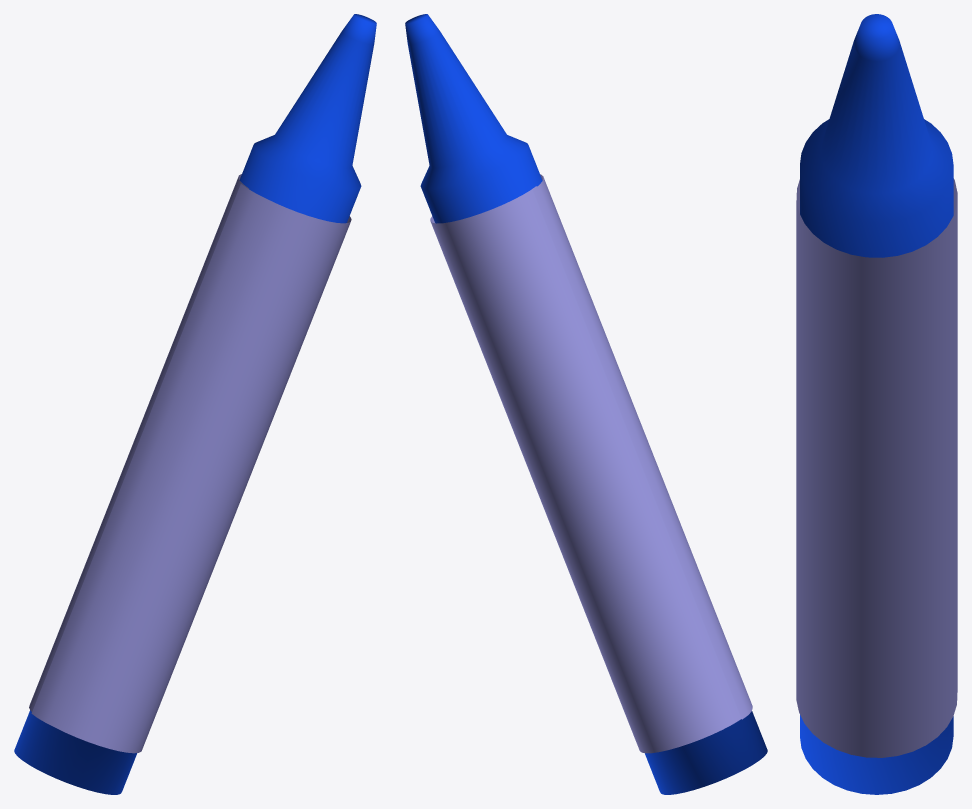
3 views of the same model, side by side, from view 1: azimuth 30°, elevation 25°; view 2: azimuth 150°, elevation 25°; view 3: azimuth 270°, elevation 25° (orthographic). The views are drawn at different scales.
Parts seen in each view (by area): view 1: Blue_Wrapper; view 2: Blue_Wrapper; view 3: Blue_Wrapper.
Part boxes in pixels (<box>): Blue_Wrapper: <box>14,14,376,794</box>; Blue_Wrapper: <box>405,14,767,794</box>; Blue_Wrapper: <box>796,14,957,794</box>.
Bounding box in the file's own units: 0.5856 × 1.12 × 0.1744.
